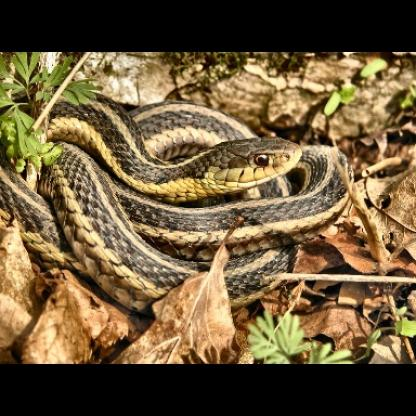Snake: (8, 97, 353, 316)
